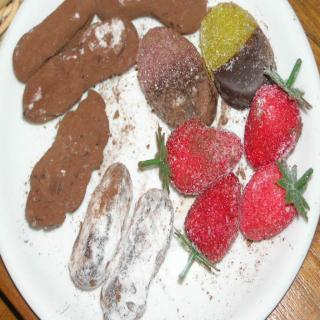Strawberry: (137, 114, 246, 198), (170, 167, 243, 280), (241, 56, 311, 168), (237, 154, 313, 244)
